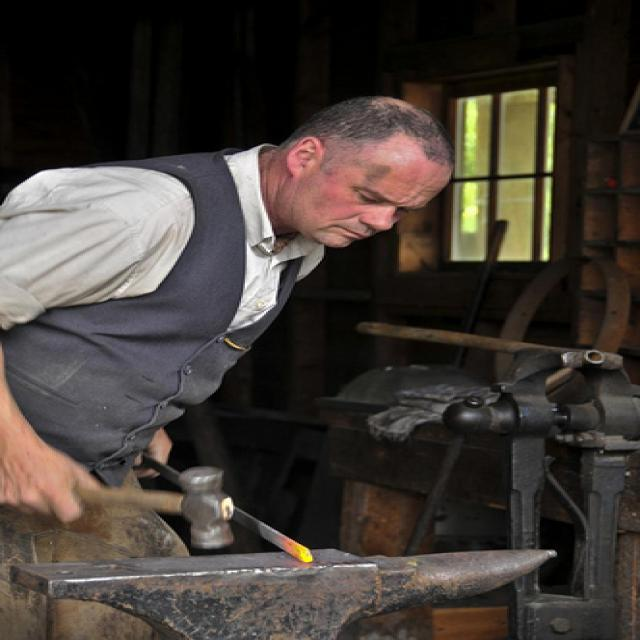hammer: (40, 459, 234, 557)
